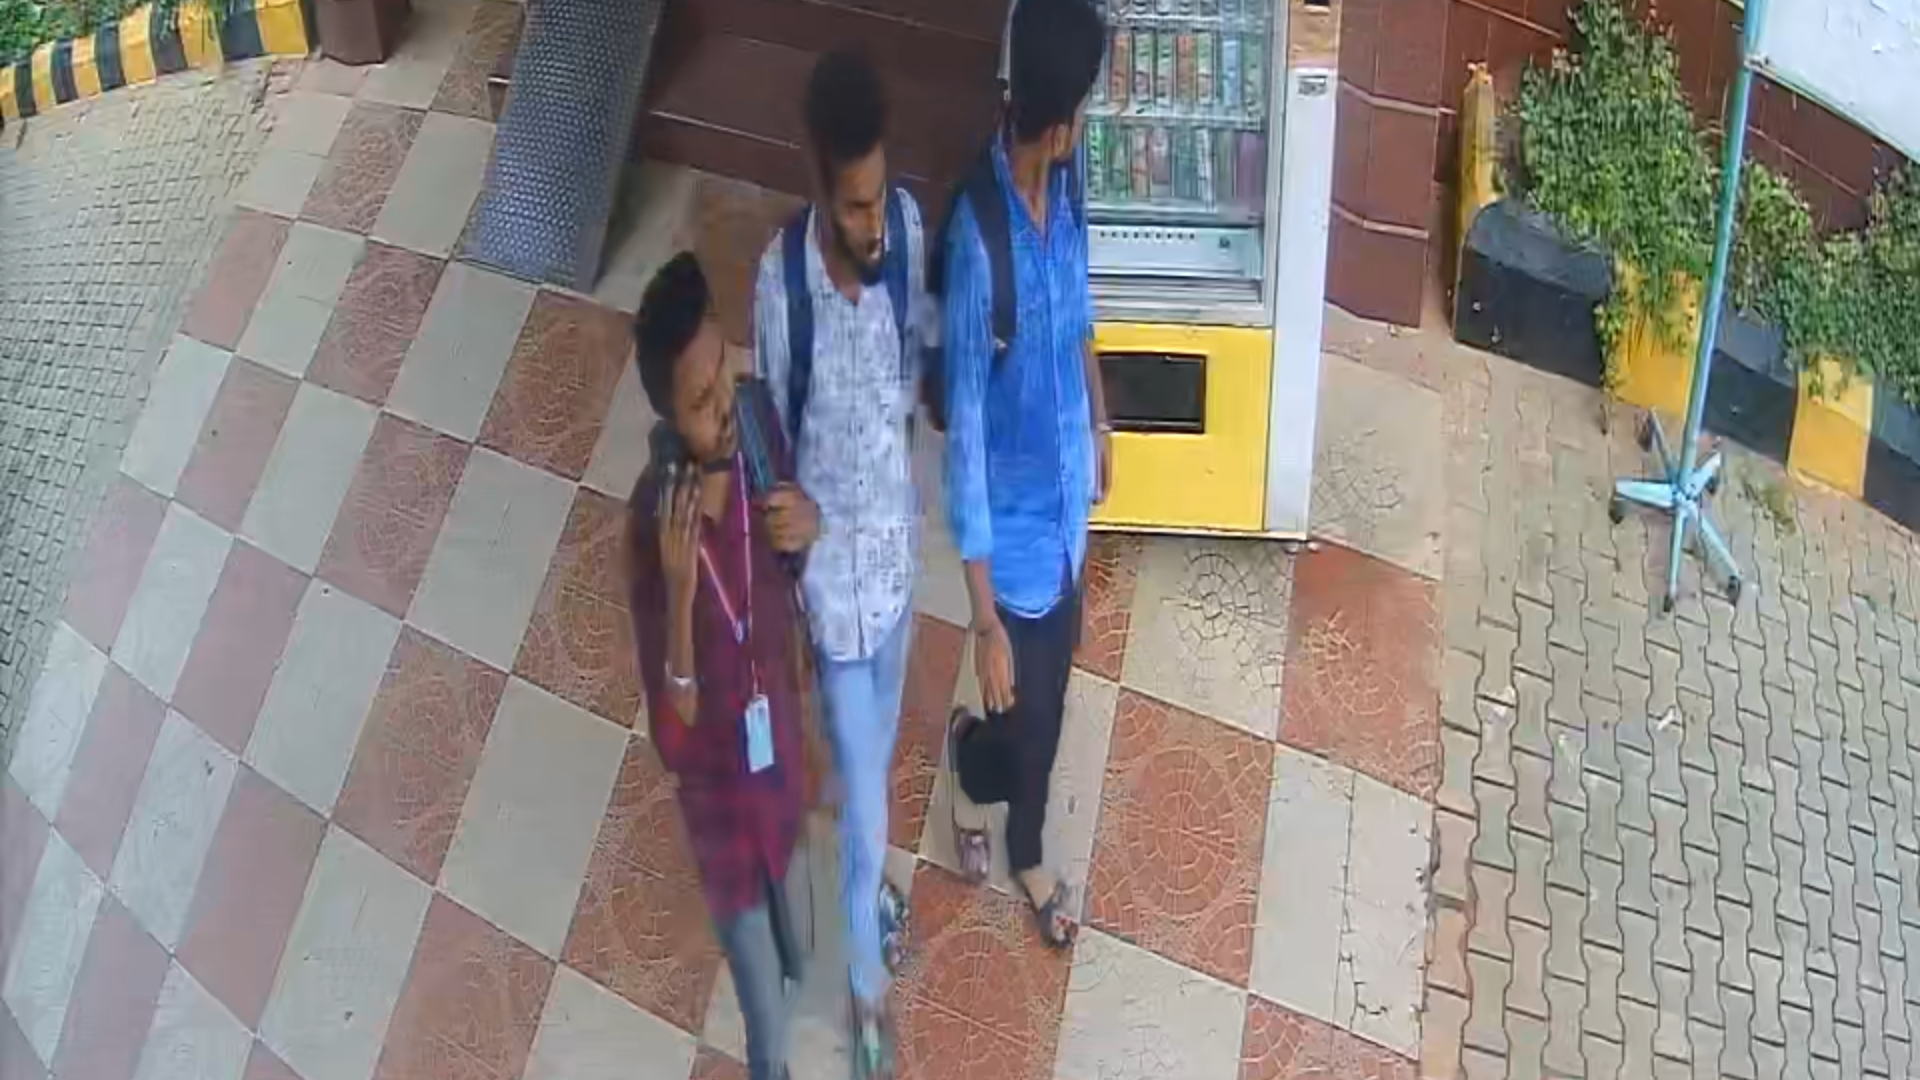intruder: (764, 45, 940, 1033), (943, 1, 1124, 924)
not intruder: (608, 248, 828, 1065)
